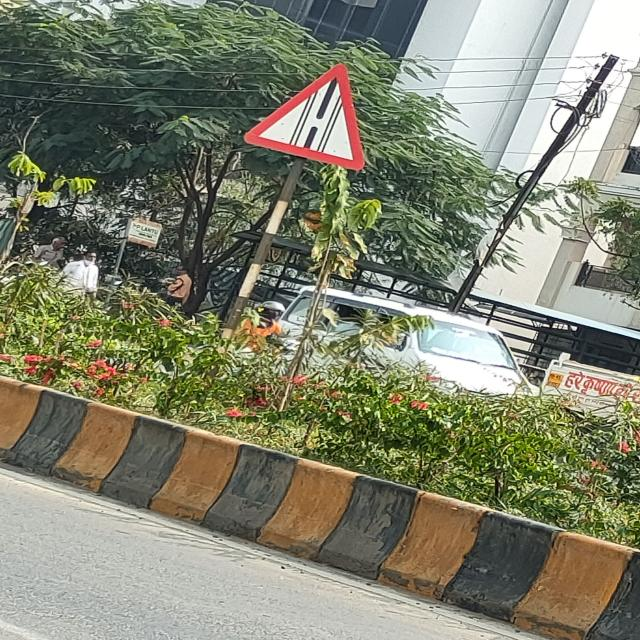GAP_IN_MEDIAN: (241, 64, 372, 171)
